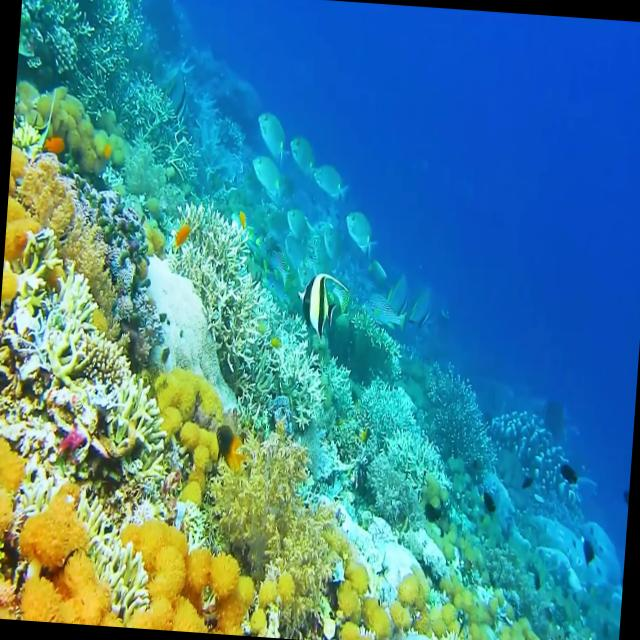fish: (292, 256, 348, 352), (245, 97, 292, 161), (335, 200, 385, 260), (305, 153, 358, 206), (236, 146, 294, 194), (282, 112, 319, 174), (280, 200, 310, 244), (554, 449, 584, 488), (42, 122, 68, 158)
